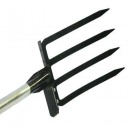fork: (11, 7, 128, 128)
